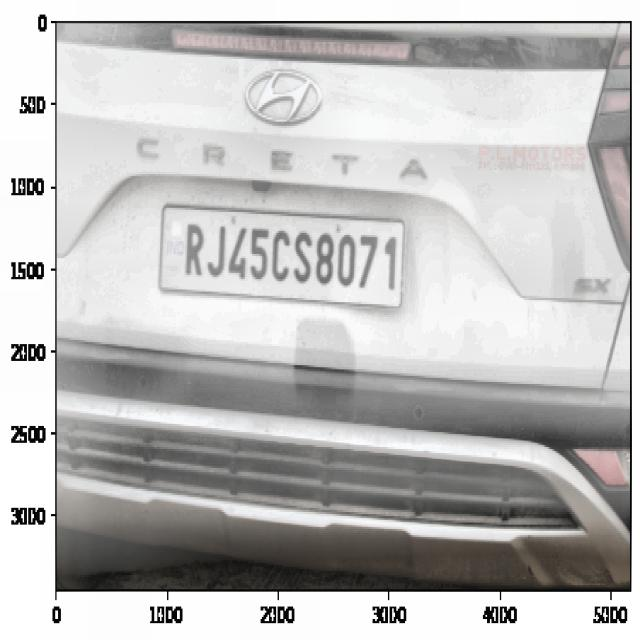license_plate: (174, 212, 403, 304)
